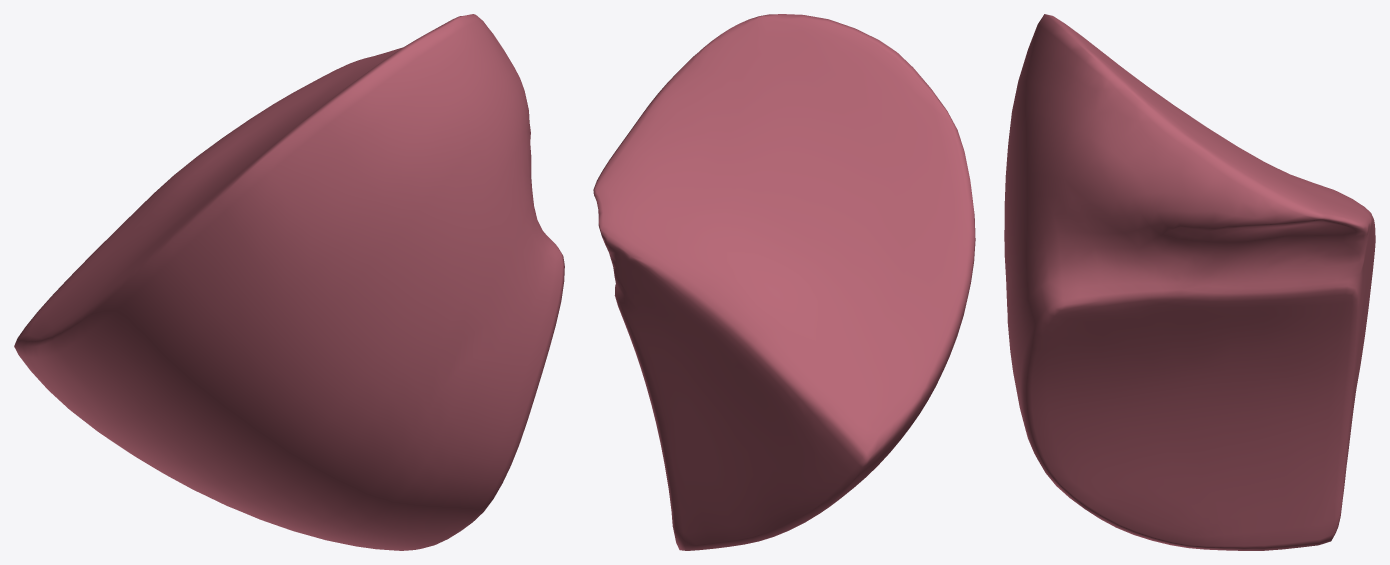
3 views of the same model, side by side, from view 1: azimuth 30°, elevation 25°; view 2: azimuth 150°, elevation 25°; view 3: azimuth 270°, elevation 25° (orthographic). The views are drawn at different scales.
Parts seen in each view (by area): view 1: 肝右前叶上段（第8段）; view 2: 肝右前叶上段（第8段）; view 3: 肝右前叶上段（第8段）.
Boxes of the visible parts, x1,y1,x2,y2 form: 肝右前叶上段（第8段）: (14, 14, 564, 550); 肝右前叶上段（第8段）: (593, 14, 975, 550); 肝右前叶上段（第8段）: (1004, 14, 1375, 550).
Bounding box in the file's own units: 0.1318 × 0.1784 × 0.1174.
